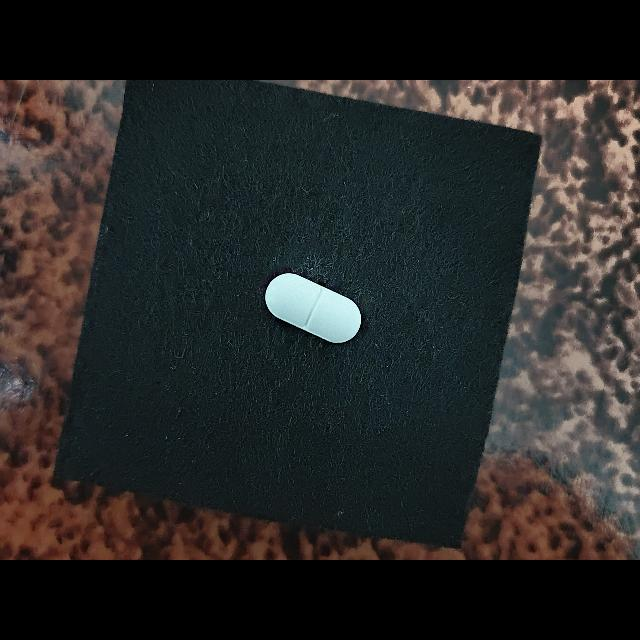Intact Pill: (265, 273, 362, 343)
